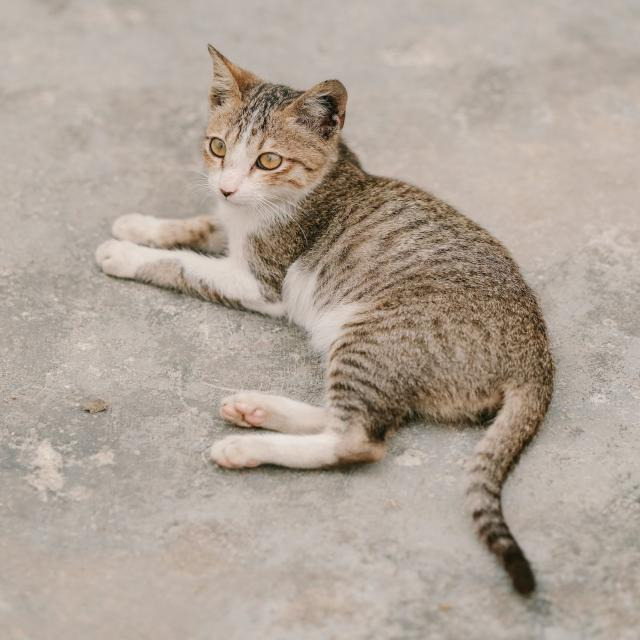cat: (96, 43, 567, 599)
